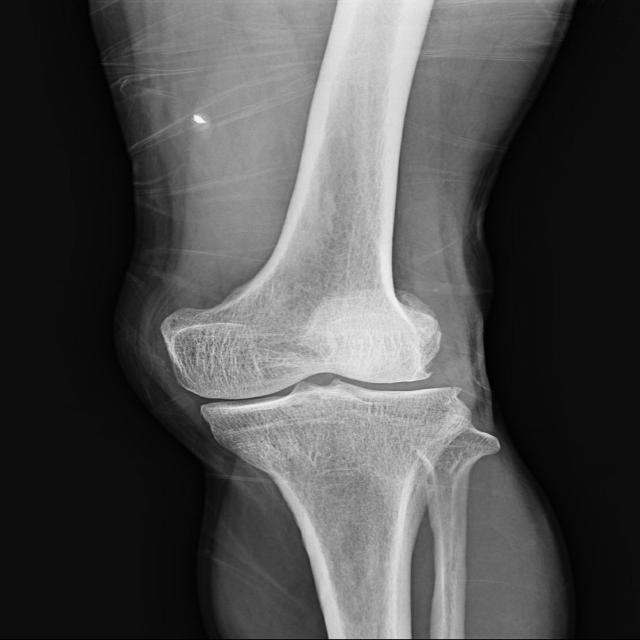osteo: (156, 302, 474, 424)
